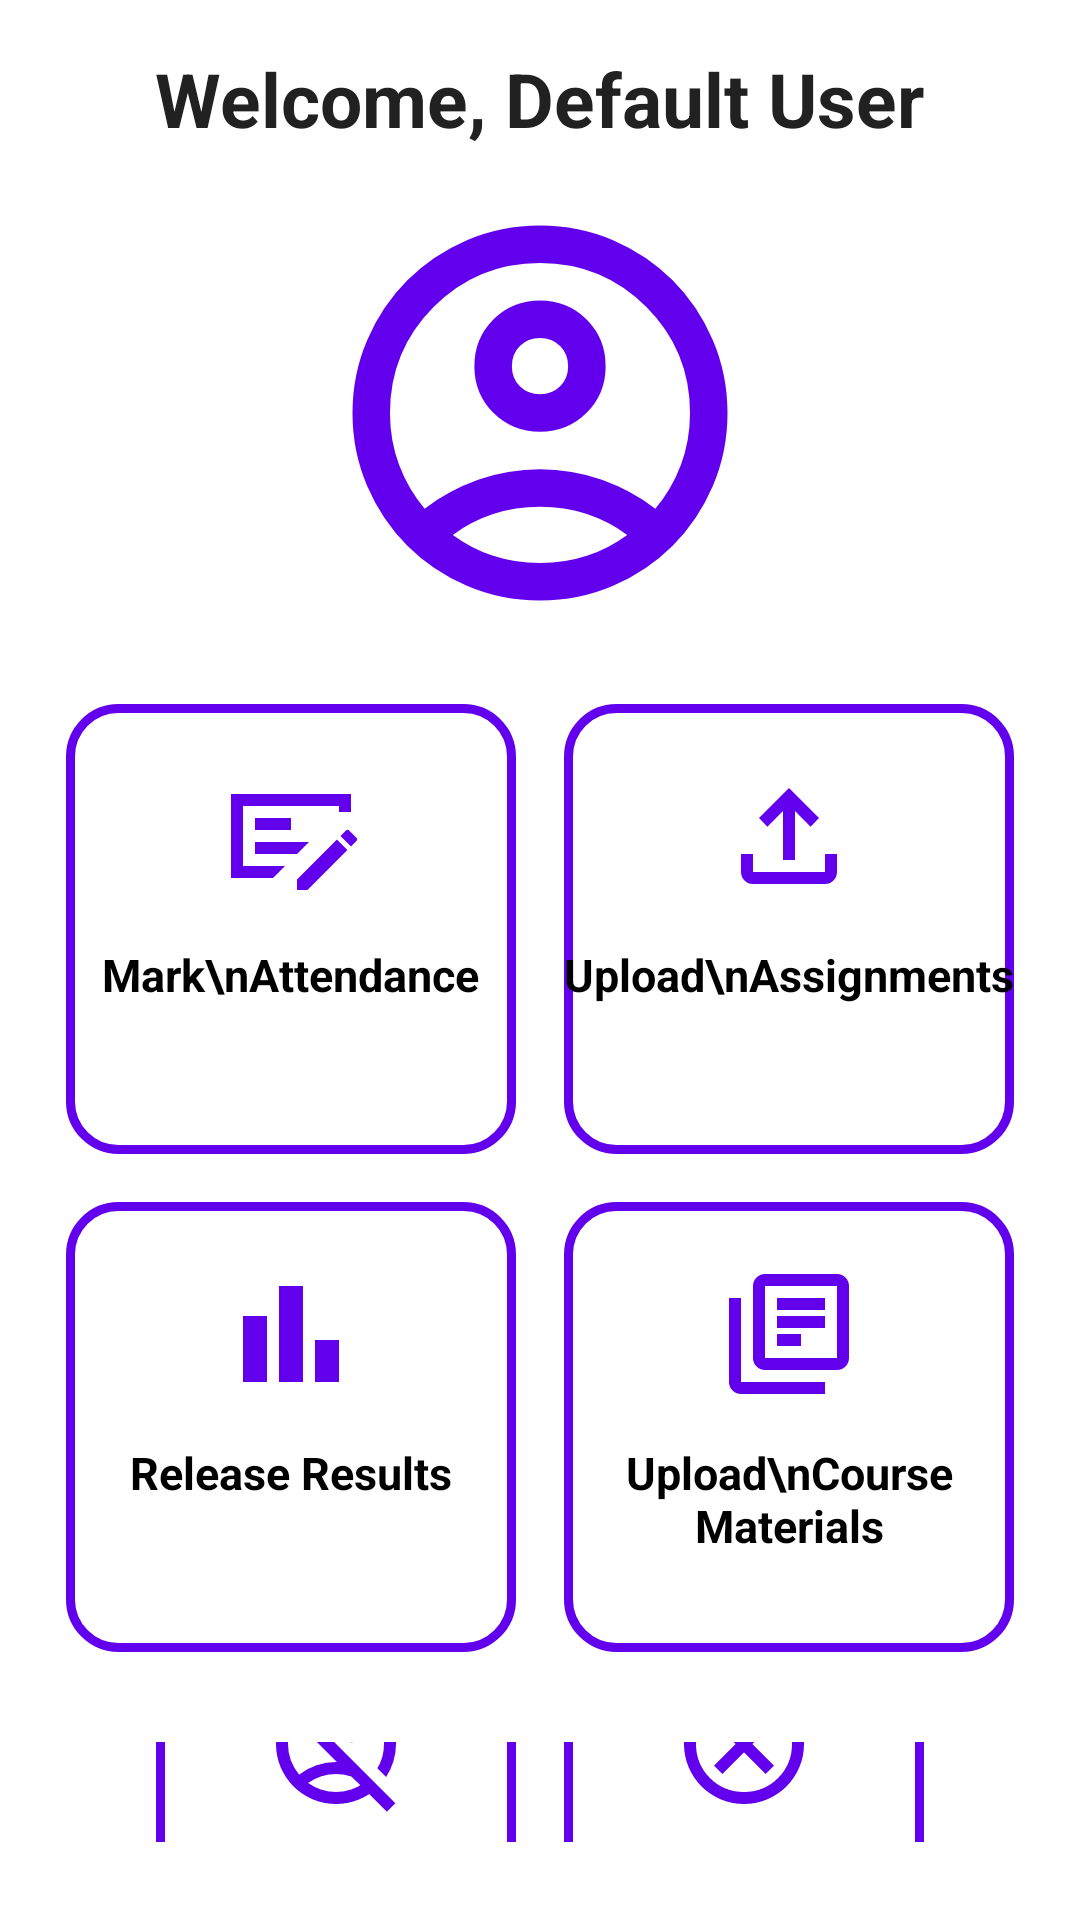

Icons on this 1080w x 1920h Android screen, each with the point to tap as (x,y):
bar chart: (291,1334)
library books: (789,1334)
